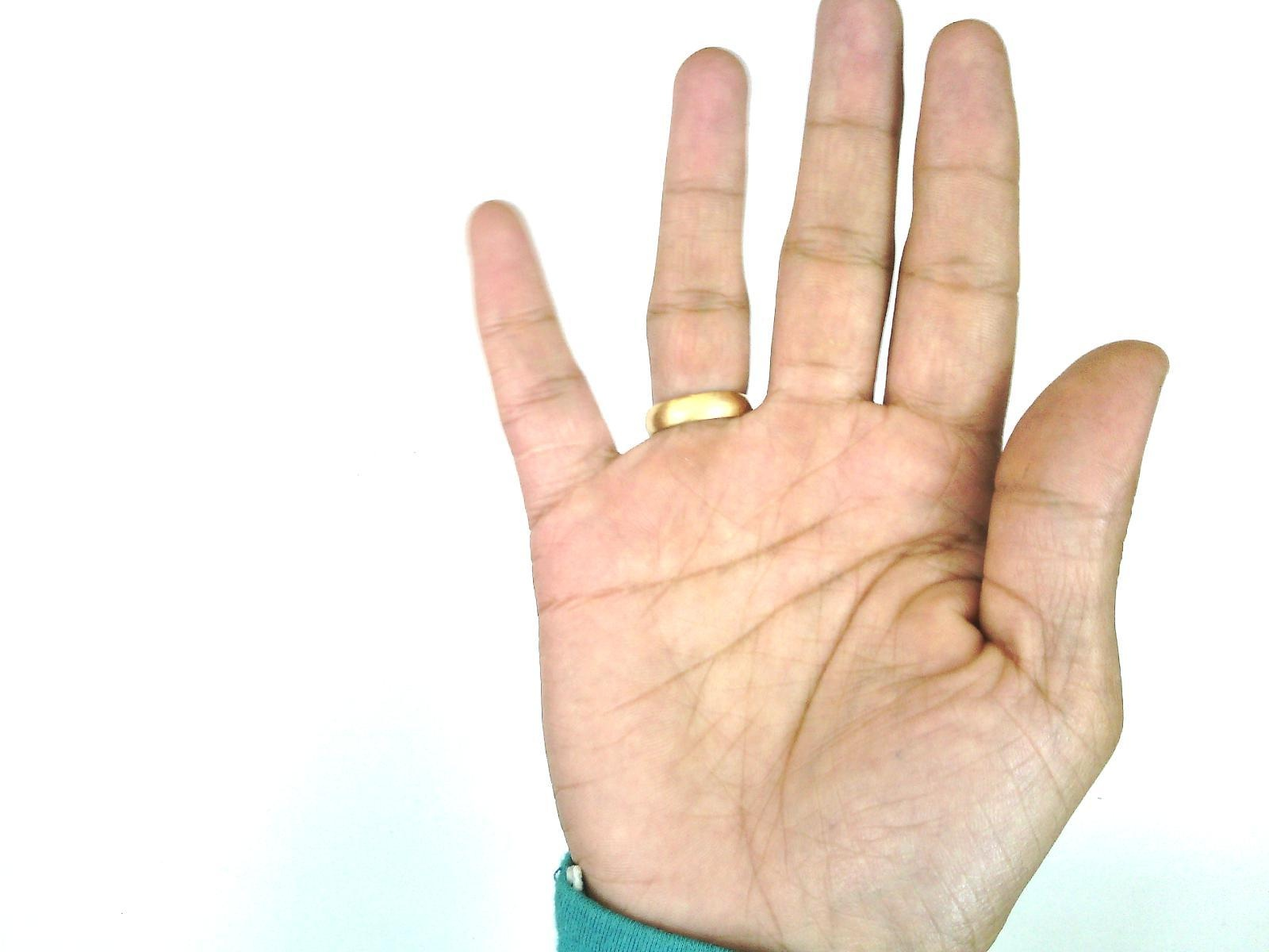open_palm: (462, 4, 1172, 951)
